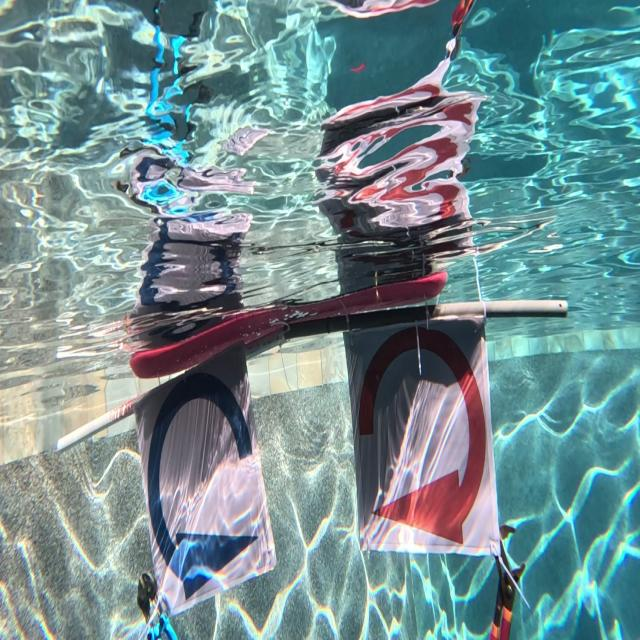blue_side: (125, 357, 278, 606)
red_side: (344, 316, 499, 558)
